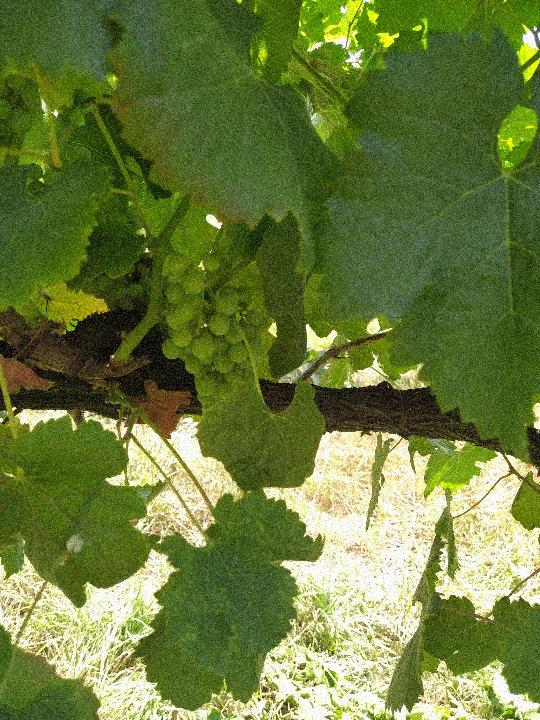grape: (162, 248, 273, 417)
